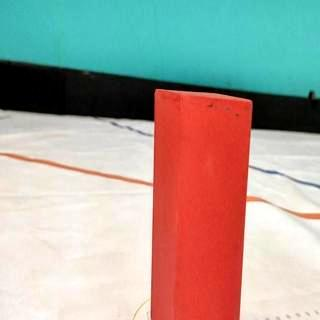redbox: (148, 87, 254, 320)
